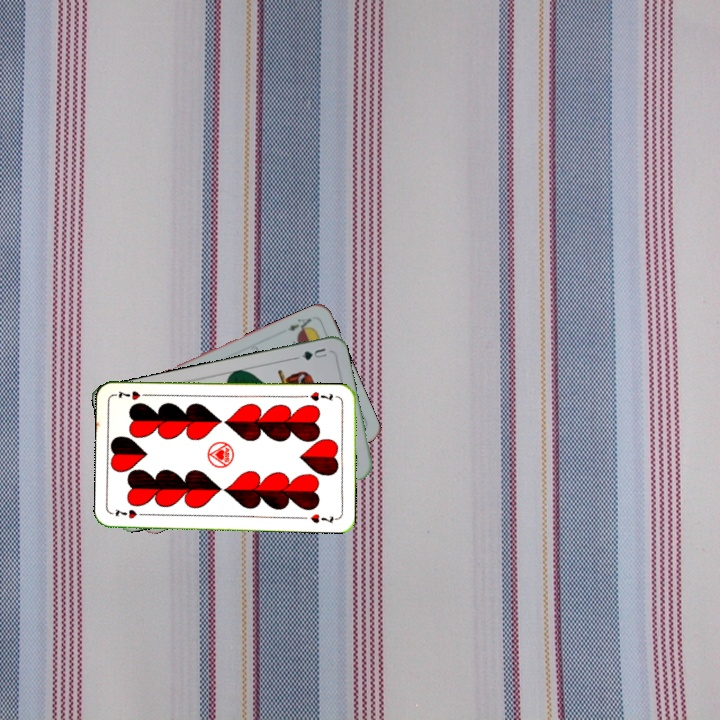EA: (283, 314, 314, 336)
GU: (297, 344, 330, 363)
H7: (111, 505, 150, 521), (300, 387, 335, 404)
